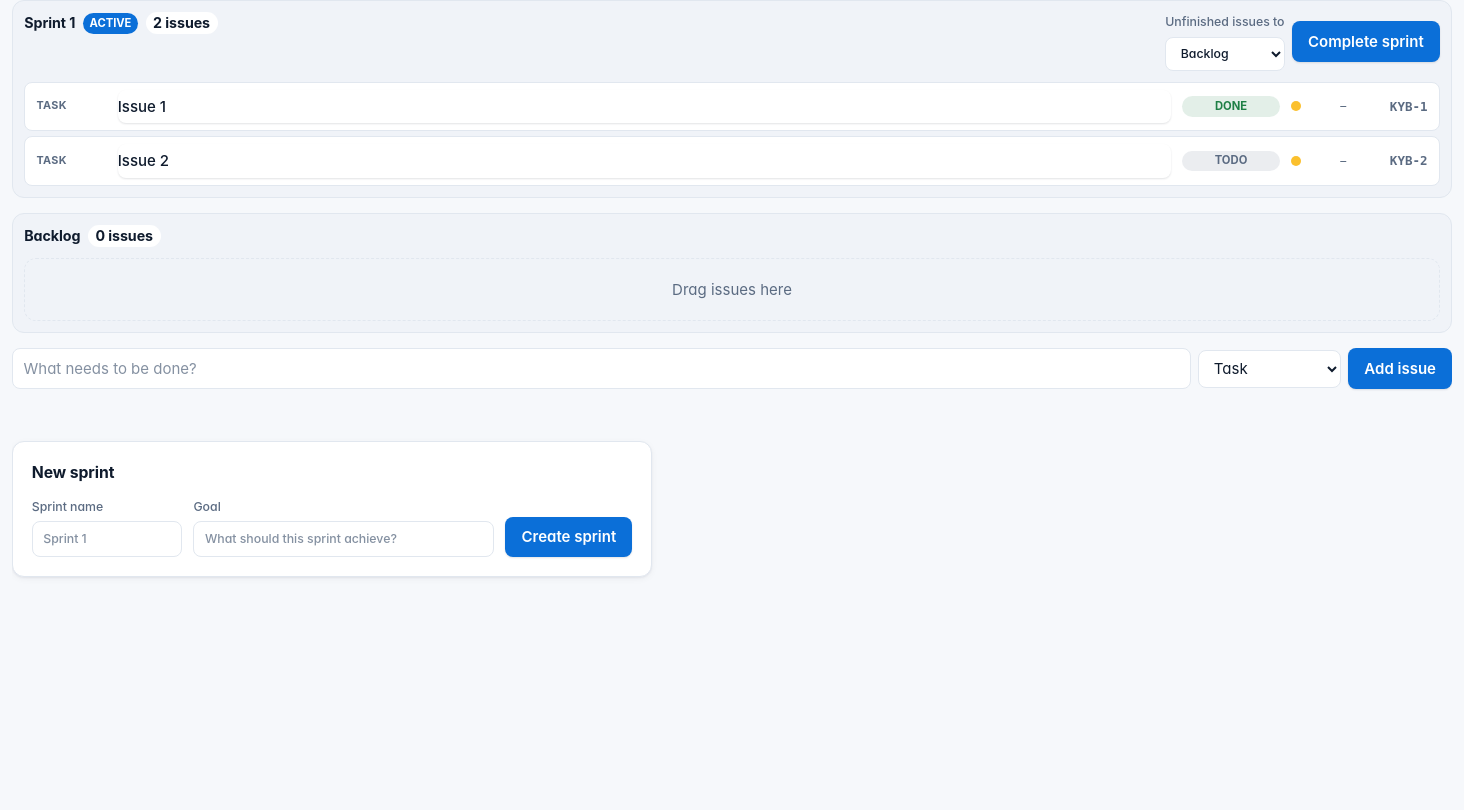
it: Backlog (KYB-S20) › AC2: completing a sprint reports what returned to the backlog
Click the button "Complete sprint".
click(1366, 41)  # box [1292,21,1440,62]
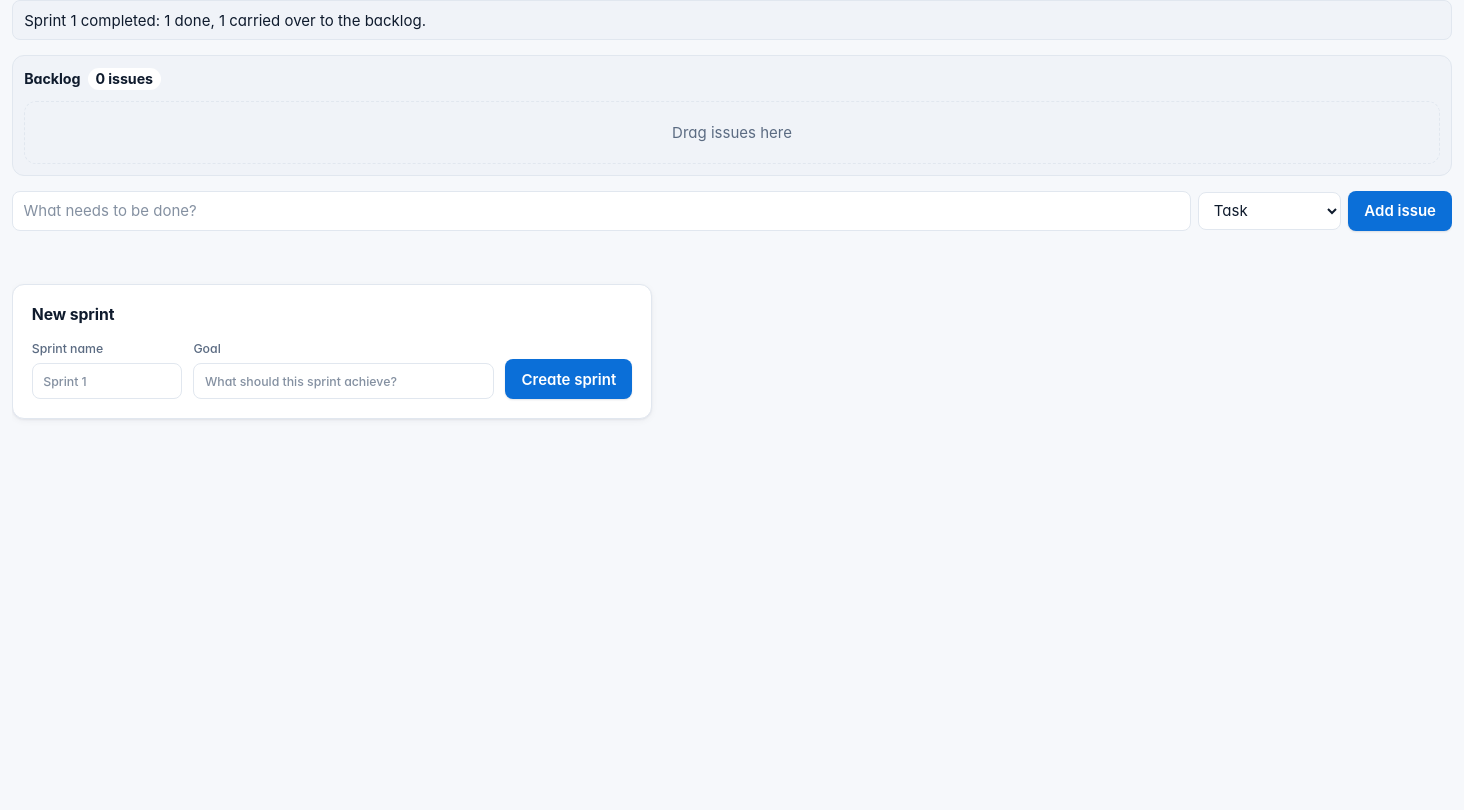
Expected: the message reads "Sprint 1 completed: 1 done, 1 carried over to the backlog.", [24,10,426,30]
